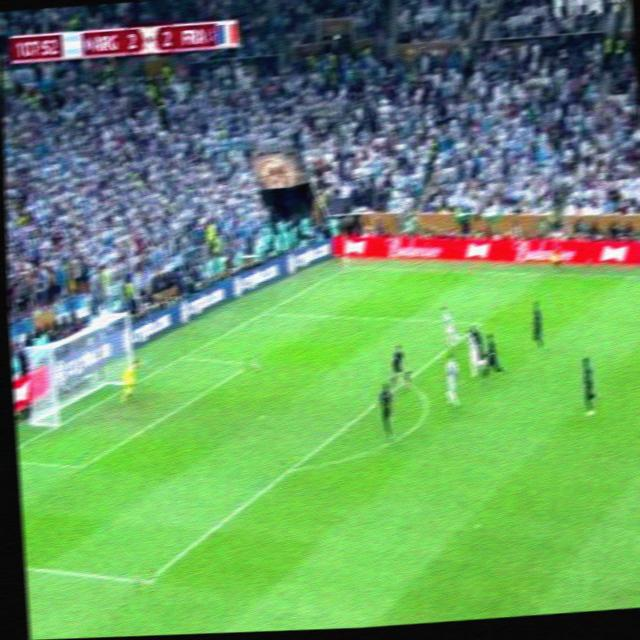bigarea_bottom_inner: (133, 566, 157, 594)
bigarea_top_inner: (472, 313, 486, 331)
bigarea_top_outter: (255, 303, 272, 320)
bottom_arc_area_intersection: (279, 455, 301, 479)
corner: (337, 259, 355, 274)
smallarea_bottom_inner: (69, 452, 92, 478)
smallarea_top_inner: (242, 352, 261, 372)
smallarea_top_outter: (173, 347, 191, 365)
top_arc_area_intersection: (397, 371, 411, 389)
